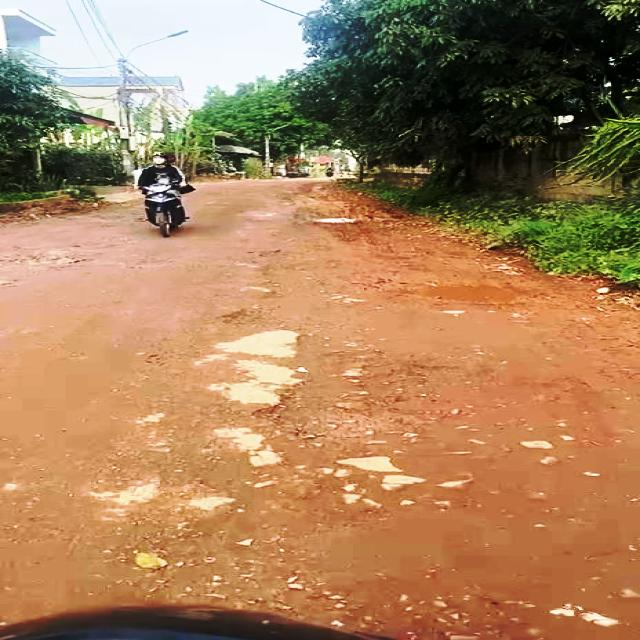pothole: (253, 378, 428, 457), (382, 274, 535, 306), (0, 251, 87, 268)
